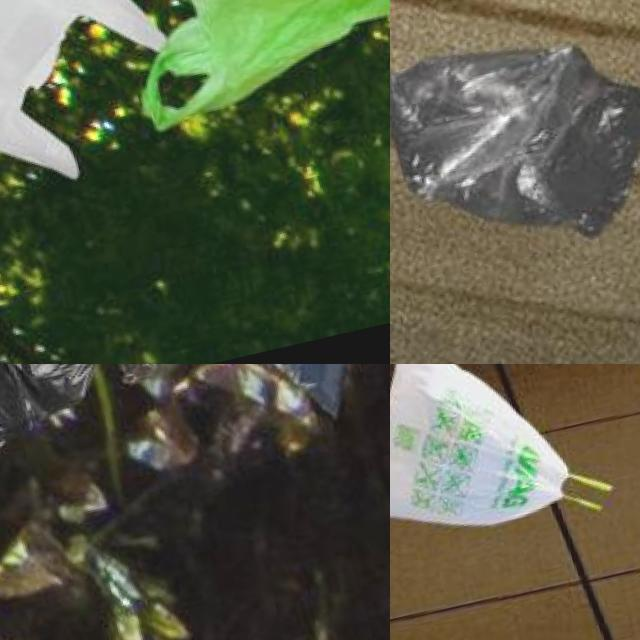waste: (390, 5, 640, 263), (60, 0, 390, 143), (390, 364, 596, 558), (0, 0, 173, 216), (0, 364, 186, 459), (253, 364, 380, 437)
